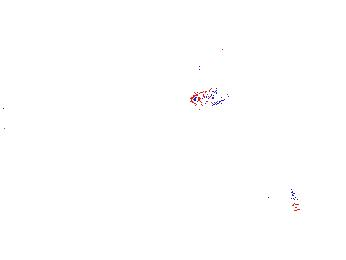X-ray fish: (98, 103, 136, 136)
red belly glassfish: (189, 89, 238, 107), (287, 186, 302, 215), (181, 55, 202, 74)
